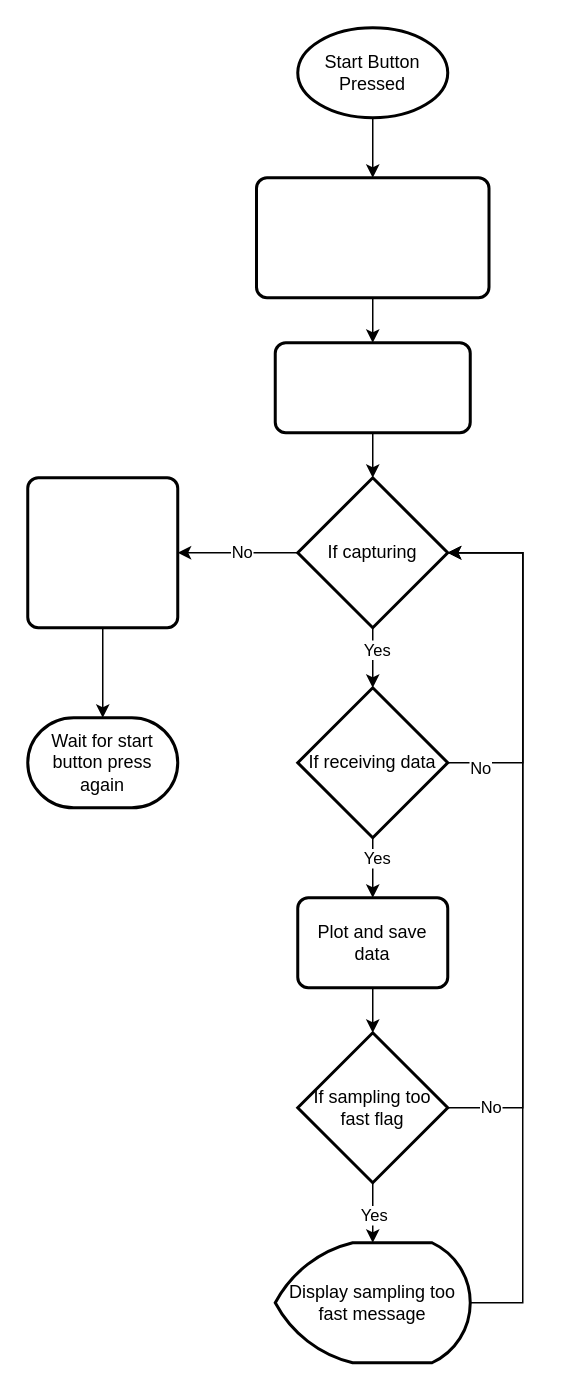
This 561x1389 diagram has some shape labels left out. The shapes that lost their labels are listed below. From the top down, each one's centre as x and y in pixels, then its label:
point (372, 237): Send commands to update all variables on MCU, Set "capturing" variable.
point (372, 387): Set up plotting variables.
point (102, 552): Send stop signal to MCU
